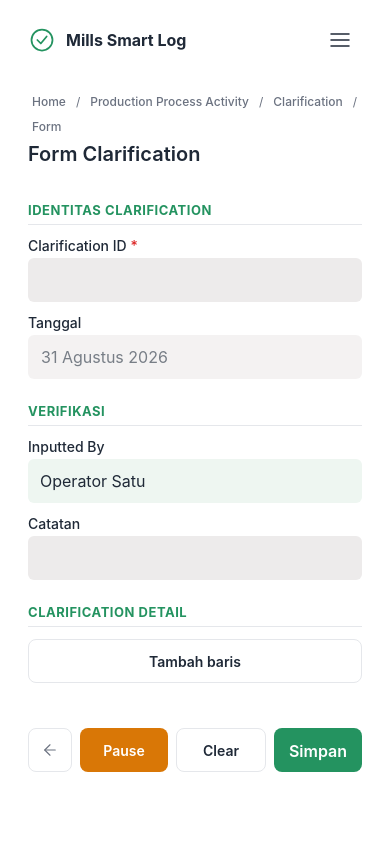
Test: FormClarificationView › shows inline error and does not save when Clarification ID is empty on Simpan
Click the button with test id "save-button" at (318, 750), box [274,728,362,772]
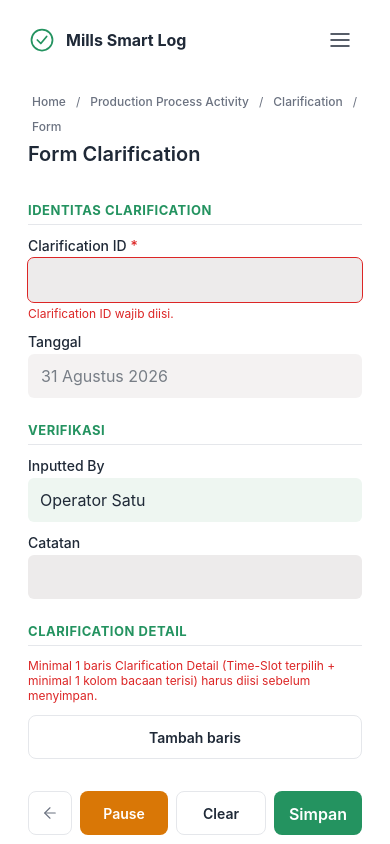
expect the text "Clarification ID wajib diisi" is shown: met, box [28,306,174,321]
